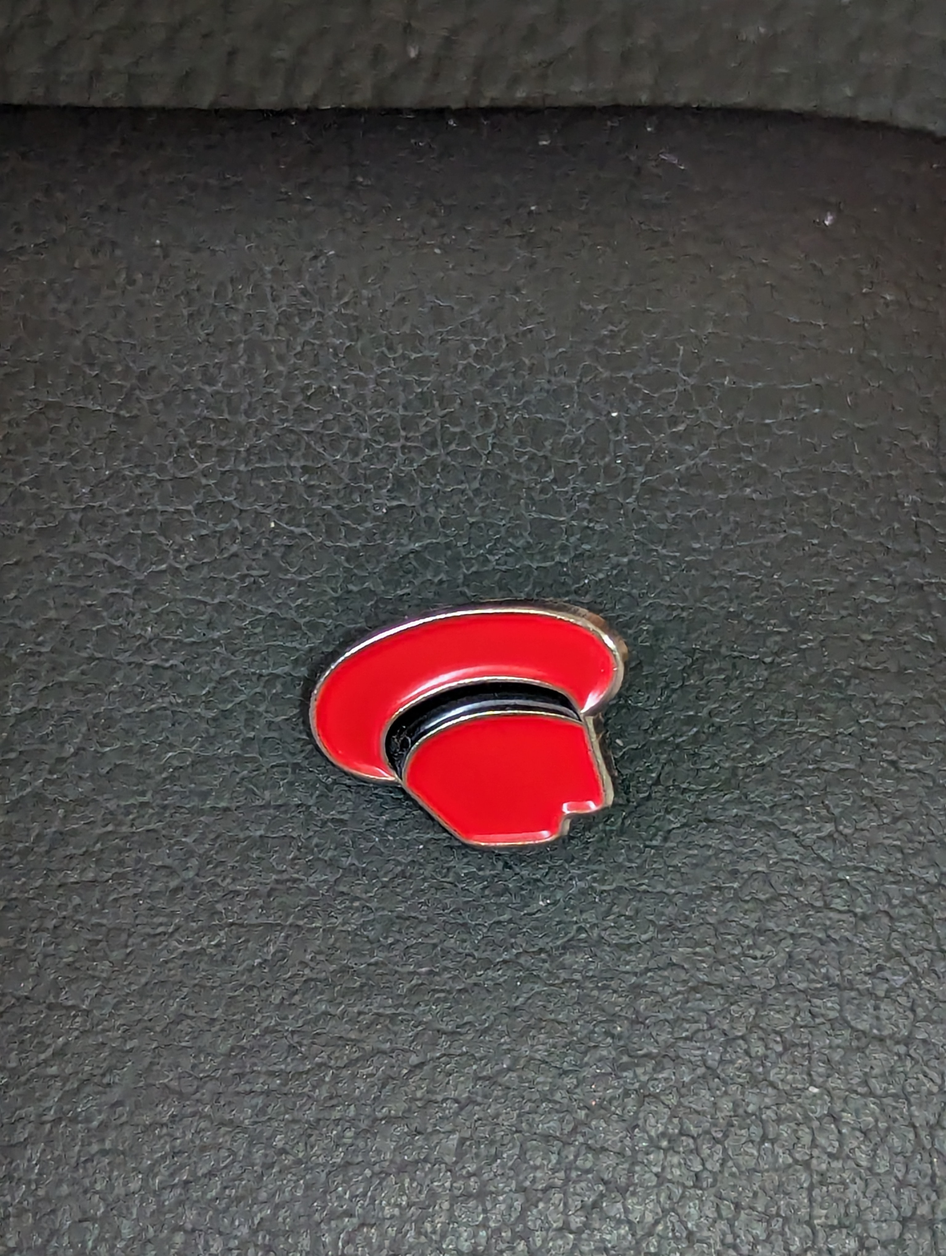Red-Hat: (257, 548, 686, 883)
